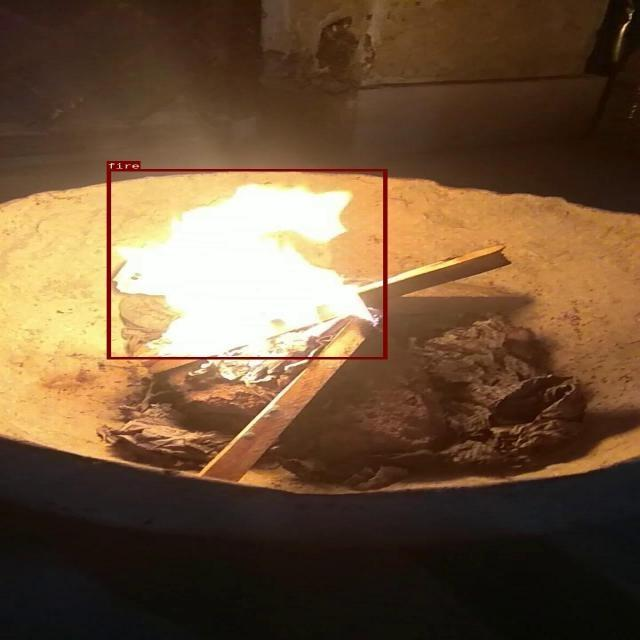fire: (107, 169, 387, 359)
